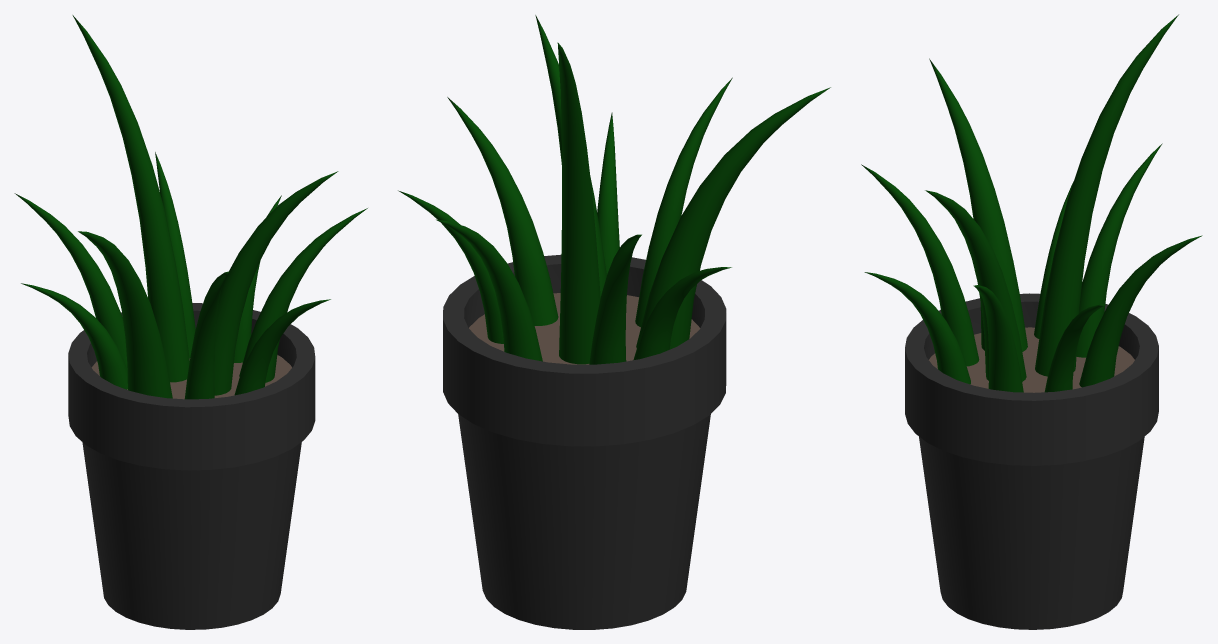
File: Plante5_3.fbx
3 views of the same model, side by side, from view 1: azimuth 30°, elevation 25°; view 2: azimuth 150°, elevation 25°; view 3: azimuth 270°, elevation 25° (orthographic). The views are drawn at different scales.
Parts seen in each view (by area): view 1: pCylinder723, pCone18, pCone17, pCone15, pCone10, pCone12, pCone14, pCone19, pCone16, pCone11, pCone13, pCylinder722; view 2: pCylinder723, pCone18, pCone17, pCone12, pCone14, pCone11, pCone10, pCone19, pCylinder722, pCone16, pCone13, pCone15; view 3: pCylinder723, pCone18, pCone17, pCone14, pCone10, pCone11, pCone15, pCone12, pCone16, pCylinder722, pCone13, pCone19.
Part boxes in pixels (box(x1,y1,x2,y2)): pCylinder723: box(68, 303, 315, 629); pCone18: box(72, 15, 189, 382); pCone17: box(78, 231, 172, 398); pCone15: box(214, 171, 338, 395); pCone10: box(14, 193, 127, 370); pCone12: box(239, 208, 367, 382); pCone14: box(184, 271, 229, 399); pCone19: box(21, 283, 127, 389); pCone16: box(234, 299, 330, 395); pCone11: box(155, 152, 195, 357); pCone13: box(234, 195, 281, 362); pCylinder722: box(91, 355, 291, 399); pCylinder723: box(443, 254, 726, 629); pCone18: box(557, 42, 600, 364); pCone17: box(636, 87, 830, 349); pCone12: box(447, 97, 558, 325); pCone14: box(635, 77, 732, 327); pCone11: box(436, 219, 542, 361); pCone10: box(589, 234, 641, 364); pCone19: box(633, 267, 731, 360); pCylinder722: box(469, 293, 700, 364); pCone16: box(597, 112, 619, 274); pCone13: box(398, 190, 503, 343); pCone15: box(535, 15, 606, 297); pCylinder723: box(905, 293, 1158, 629); pCone18: box(1035, 14, 1178, 376); pCone17: box(929, 58, 1027, 351); pCone14: box(861, 164, 979, 366); pCone10: box(1076, 143, 1162, 357); pCone11: box(1079, 235, 1202, 387); pCone15: box(925, 190, 1026, 381); pCone12: box(973, 285, 1023, 392); pCone16: box(864, 272, 970, 384); pCylinder722: box(929, 327, 1134, 392); pCone13: box(1044, 304, 1105, 392); pCone19: box(1034, 181, 1073, 338).
Bounding box in the file's own units: 16.39 × 26.9 × 15.12.
